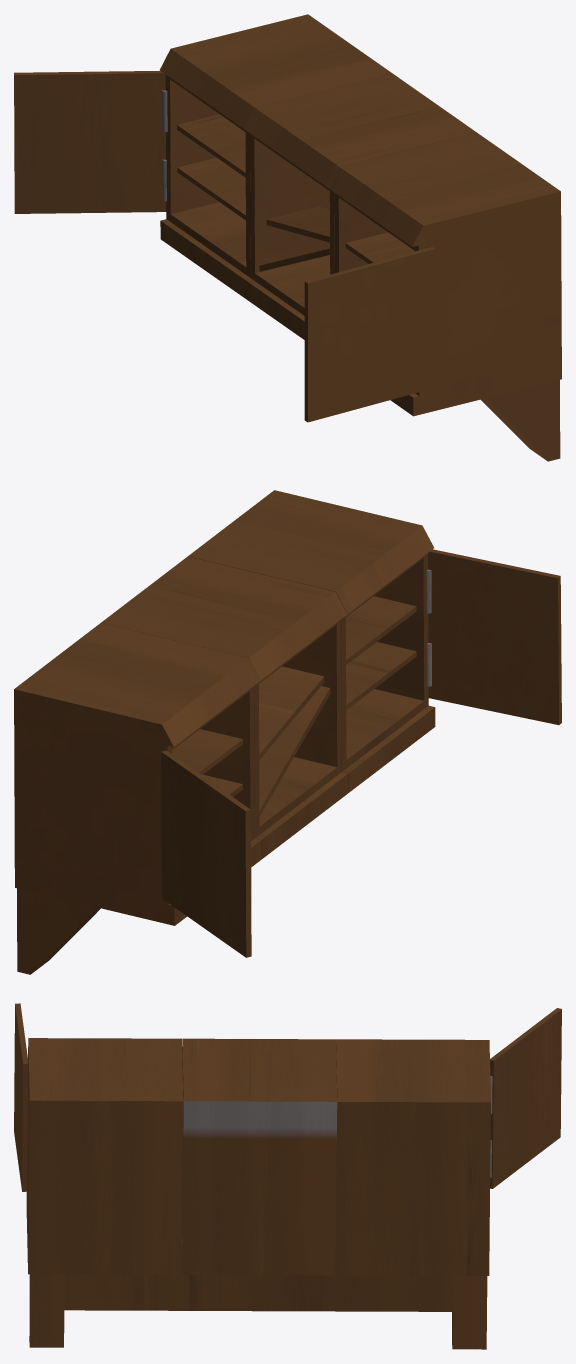
Rendered from cup board_ver3.fbx.
3 views of the same model, one above another, from view 1: azimuth 30°, elevation 25°; view 2: azimuth 150°, elevation 25°; view 3: azimuth 270°, elevation 25° (orthographic). The views are drawn at different scales.
Visible parts, largest first — view 1: Cube.063; view 2: Cube.063; view 3: Cube.063.
Boxes of the visible parts, x1,y1,x2,y2 form: Cube.063: [14, 14, 561, 461]; Cube.063: [14, 490, 561, 974]; Cube.063: [14, 1003, 561, 1349].
Size of the model in its own units: 254 by 250 by 495.
